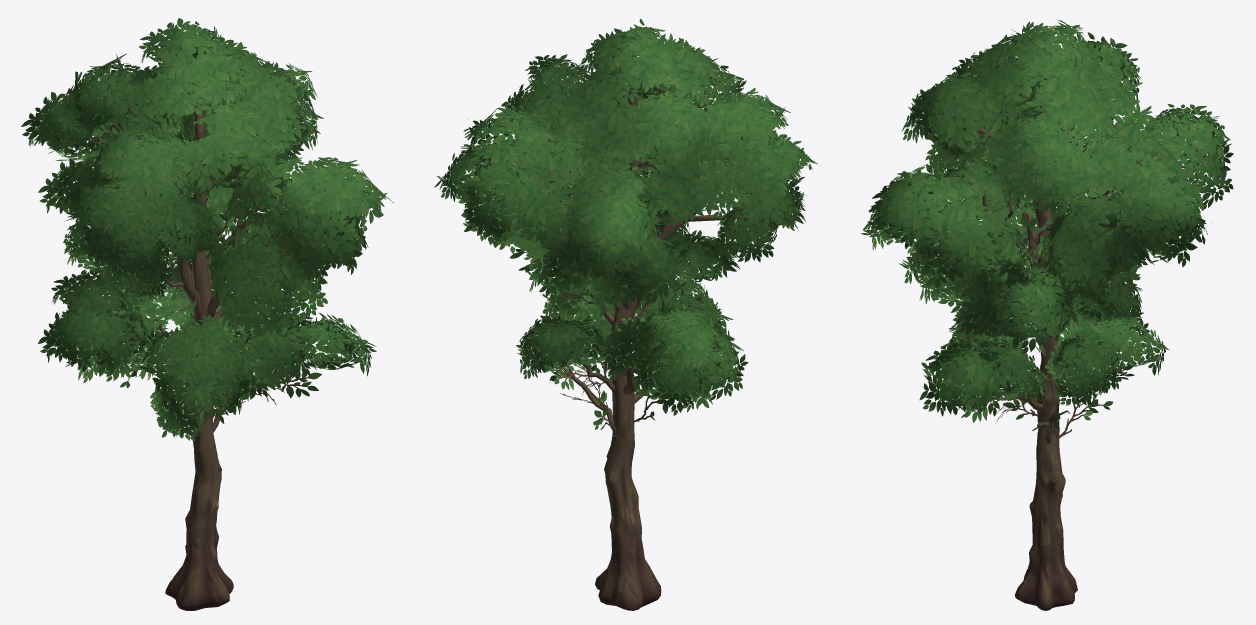
The model's file is SM_FW01_Tree_B_06.fbx.
The picture shows the model from 3 angles, left to right: view 1: azimuth 30°, elevation 25°; view 2: azimuth 150°, elevation 25°; view 3: azimuth 270°, elevation 25°; orthographic projection.
Parts seen in each view (by area): view 1: SM_FW01_Tree_B_06_LOD0; view 2: SM_FW01_Tree_B_06_LOD0; view 3: SM_FW01_Tree_B_06_LOD0.
Boxes of the visible parts, x1=… form: SM_FW01_Tree_B_06_LOD0: x1=21, y1=18, x2=394, y2=610; SM_FW01_Tree_B_06_LOD0: x1=434, y1=18, x2=817, y2=610; SM_FW01_Tree_B_06_LOD0: x1=861, y1=19, x2=1233, y2=610.
Size of what is drawn, in the model's own units: 5.21 by 9.04 by 5.53.
